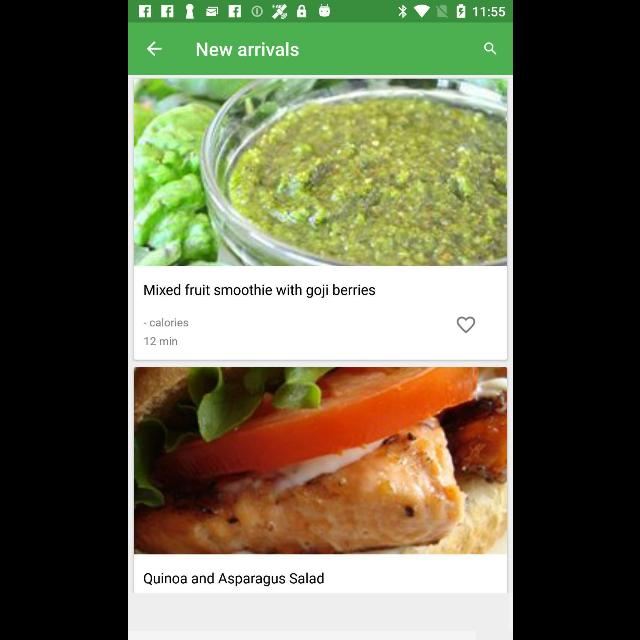icon: (456, 316, 474, 334), (146, 42, 162, 56), (484, 43, 496, 55)
image: (134, 78, 506, 266), (134, 368, 506, 554)
panel: (133, 80, 507, 360)
text: (143, 284, 374, 298), (143, 573, 323, 587), (195, 42, 298, 56), (143, 318, 187, 327), (144, 336, 176, 346)
toolbar: (128, 23, 512, 75)
uppertaskbar: (128, 1, 512, 23)
